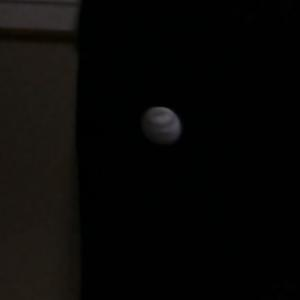ball: (141, 106, 184, 149)
